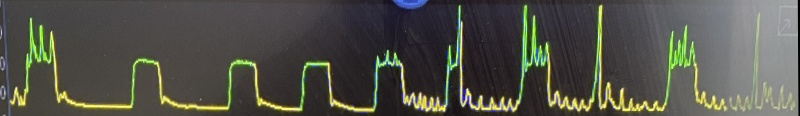hydrop_pressure: (354, 0, 788, 116), (2, 8, 112, 116)
normal_pressure: (115, 41, 340, 116)
